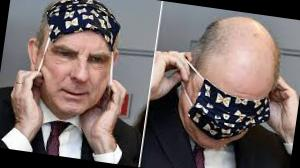mask_weared_incorrect: (189, 48, 276, 159), (36, 12, 120, 119)
